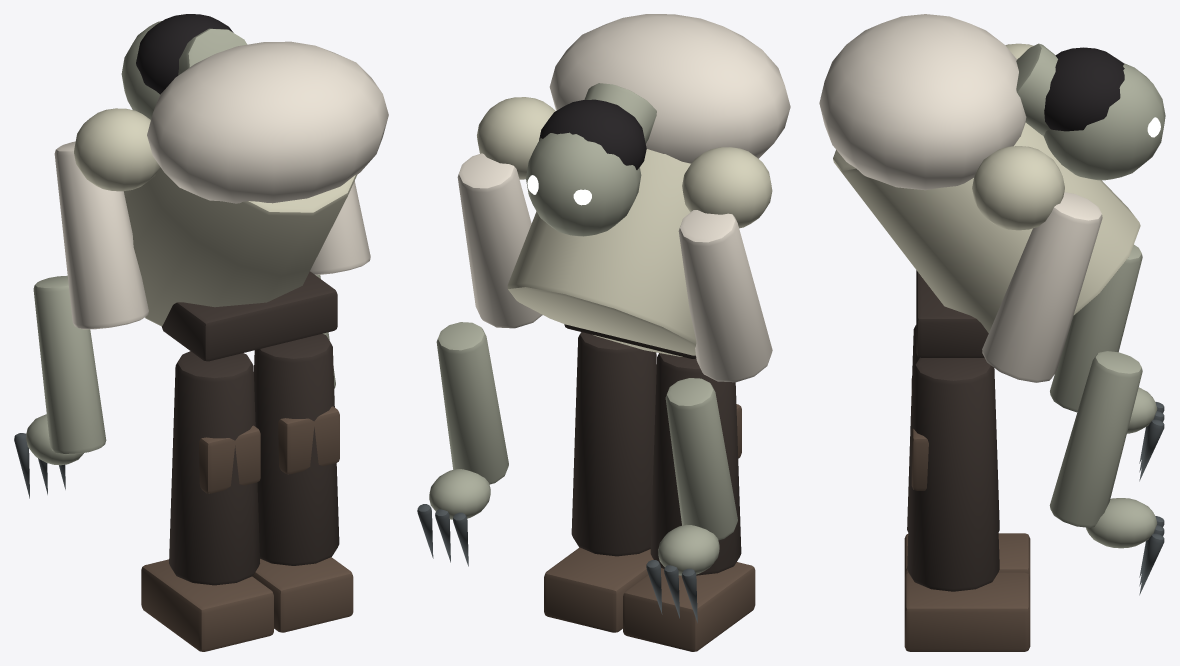
File: vampire.glb
3 renders of one model, left to right at view 1: azimuth 30°, elevation 25°; view 2: azimuth 150°, elevation 25°; view 3: azimuth 270°, elevation 25°, orthographic. The views are drawn at different scales.
Parts seen in each view (by area): view 1: Vampire; view 2: Vampire; view 3: Vampire.
Part boxes in pixels (x1,y1,x2,y2): Vampire: (14,14,388,651); Vampire: (417,14,790,651); Vampire: (819,14,1165,651).
Bounding box in the file's own units: 0.7288 × 1.38 × 0.7438.
